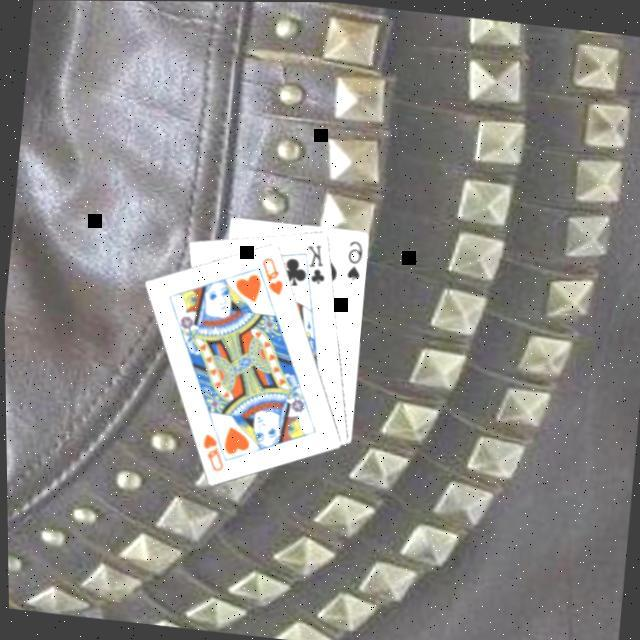6S: (339, 235, 365, 282)
KC: (294, 238, 329, 292)
QH: (192, 419, 230, 473), (251, 251, 286, 296)
